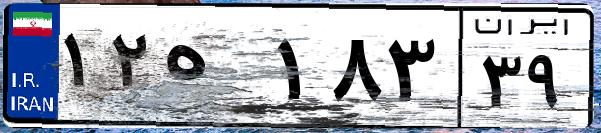1: (270, 28, 330, 110), (57, 26, 110, 100)
2: (110, 28, 158, 98)
3: (385, 28, 445, 110), (475, 38, 525, 113)
8: (330, 28, 385, 110)
9: (525, 38, 570, 115)
ه: (158, 20, 270, 120)
